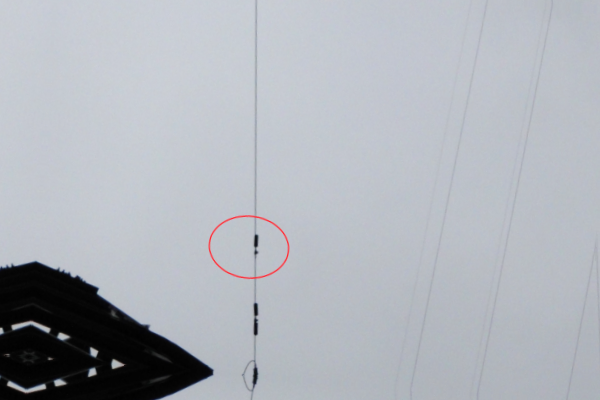damper: (251, 301, 261, 338)
damper_defect: (251, 231, 261, 264)
